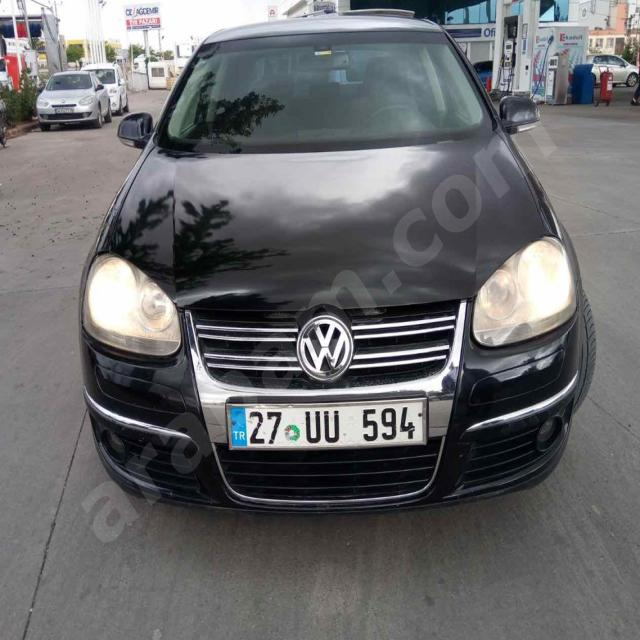license_plate: (229, 401, 423, 446)
